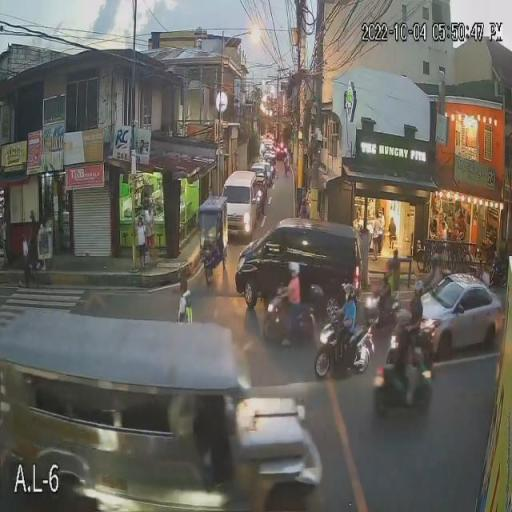helmet: (340, 281, 354, 295), (310, 285, 324, 297), (287, 262, 300, 274)
motorcycle: (372, 318, 434, 418), (314, 309, 376, 380), (260, 282, 322, 347), (360, 286, 395, 346)
rider: (278, 262, 306, 336), (334, 282, 360, 356), (400, 286, 425, 354), (384, 319, 413, 377), (373, 278, 395, 332)
